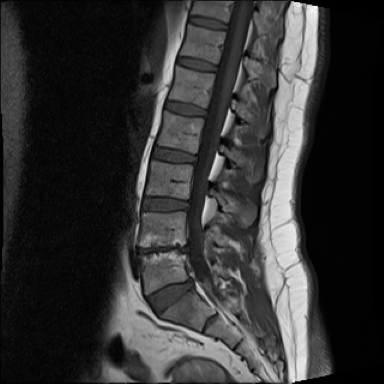Degenerative Disc Disease (DDD): (125, 233, 196, 263)
Lumbar Disc Bulge (LDB): (128, 273, 199, 321)
Normal IVD: (148, 142, 199, 168), (162, 95, 210, 121), (140, 193, 192, 216), (175, 52, 220, 75), (186, 14, 231, 34)
Spinal Stenosis (SS): (184, 273, 198, 294), (181, 240, 194, 258)
